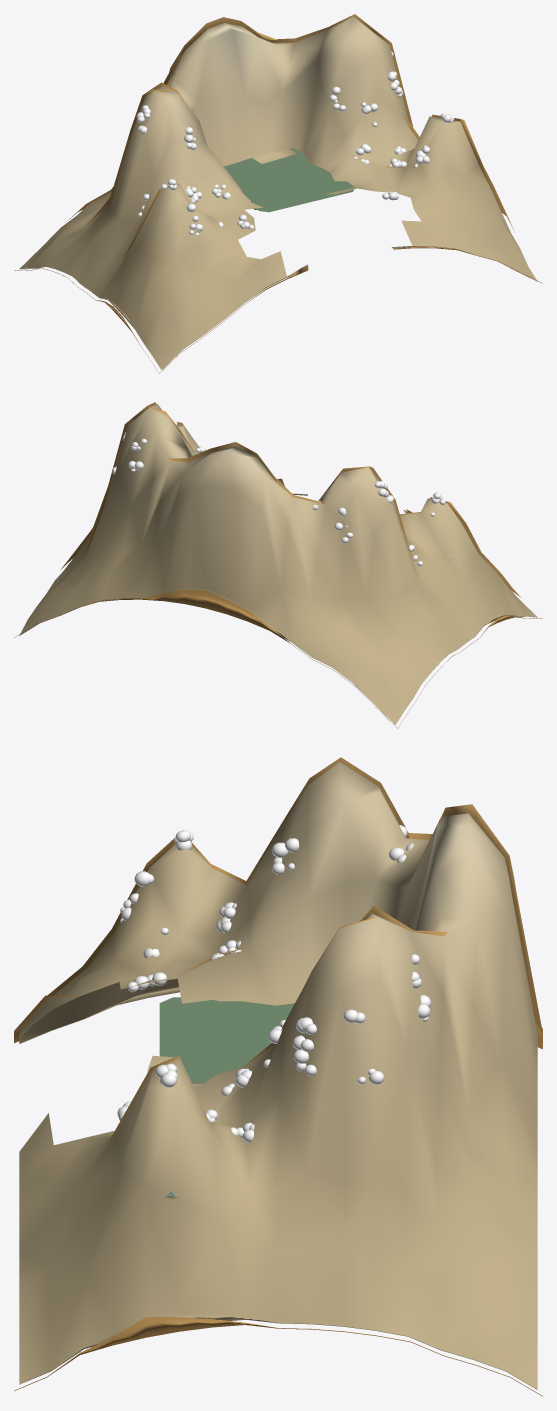
The model's file is terrain-blue.glb.
3 renders of one model, top to bottom at view 1: azimuth 30°, elevation 25°; view 2: azimuth 150°, elevation 25°; view 3: azimuth 270°, elevation 25°, orthographic. The views are drawn at different scales.
Visible parts, largest first — view 1: citadel-oskar-grid-mountain-surface, highland-town-foundation-platform, backlit-highlight-citadel-oskar-grid-mountain-surface; view 2: citadel-oskar-grid-mountain-surface, backlit-highlight-citadel-oskar-grid-mountain-surface; view 3: citadel-oskar-grid-mountain-surface, backlit-highlight-citadel-oskar-grid-mountain-surface, highland-town-foundation-platform.
Part boxes in pixels (x1,y1,x2,y2): citadel-oskar-grid-mountain-surface: [19, 16, 537, 369]; highland-town-foundation-platform: [223, 148, 354, 212]; backlit-highlight-citadel-oskar-grid-mountain-surface: [14, 14, 542, 373]; citadel-oskar-grid-mountain-surface: [19, 404, 537, 724]; backlit-highlight-citadel-oskar-grid-mountain-surface: [14, 402, 542, 728]; citadel-oskar-grid-mountain-surface: [19, 762, 537, 1389]; backlit-highlight-citadel-oskar-grid-mountain-surface: [14, 757, 542, 1396]; highland-town-foundation-platform: [159, 997, 294, 1082].
Size of the model in its own units: 184 by 103 by 120.
